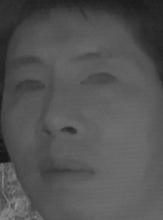eye: (80, 67, 119, 93), (9, 75, 48, 98)
mouth: (35, 154, 97, 190)
